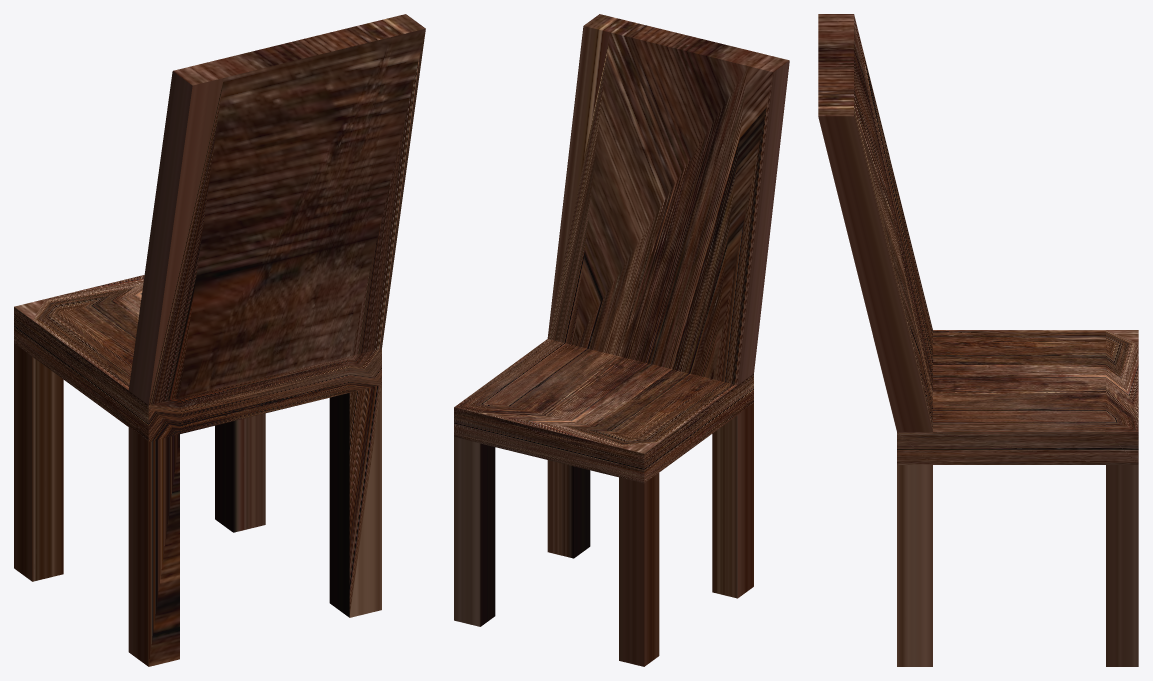
File: Woor Chair.glb
3 renders of one model, left to right at view 1: azimuth 30°, elevation 25°; view 2: azimuth 150°, elevation 25°; view 3: azimuth 270°, elevation 25°, orthographic. The views are drawn at different scales.
Visible parts, largest first — view 1: Cube; view 2: Cube; view 3: Cube.
Boxes of the visible parts, <box> form: Cube: <box>14,14,425,666</box>; Cube: <box>454,14,789,666</box>; Cube: <box>818,14,1138,666</box>.
Size of the model in its own units: 2 by 5.03 by 2.65.
Materials: 1 (1 with a texture image).
